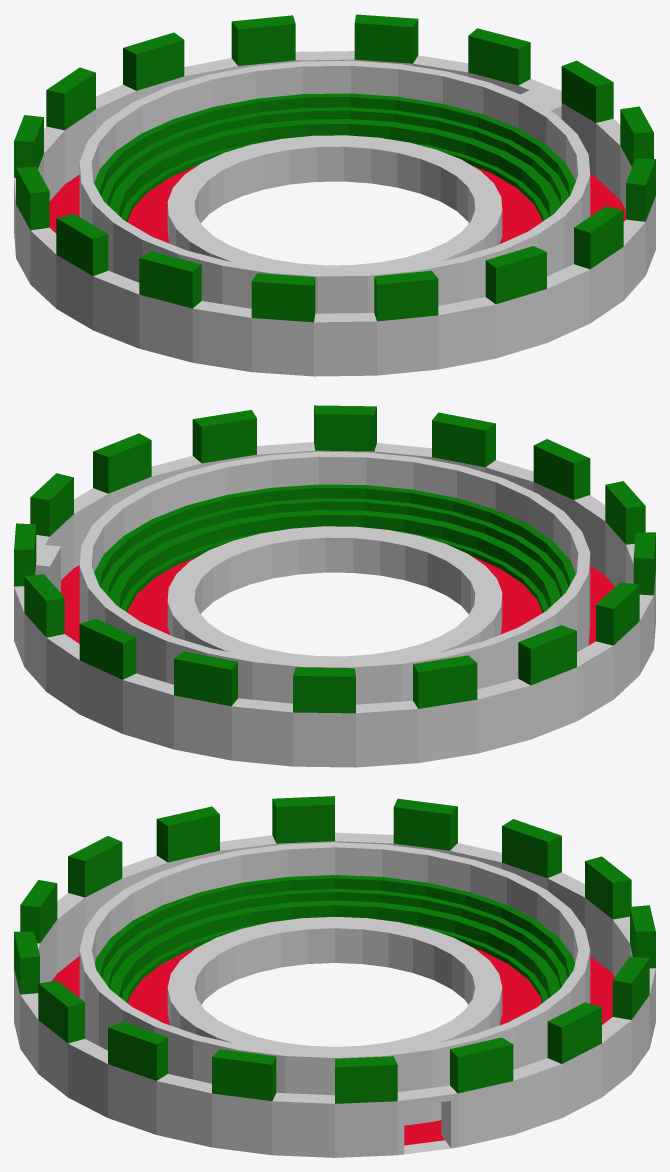
Rendered from Arena_game.fbx.
3 renders of one model, top to bottom at view 1: azimuth 30°, elevation 25°; view 2: azimuth 150°, elevation 25°; view 3: azimuth 270°, elevation 25°, orthographic.
Visible parts, largest first — view 1: Arena; view 2: Arena; view 3: Arena.
Boxes of the visible parts, x1,y1,x2,y2 form: Arena: [14, 14, 655, 376]; Arena: [14, 405, 655, 767]; Arena: [14, 796, 655, 1157].
Bounding box in the file's own units: 6459 × 1005 × 6459.
